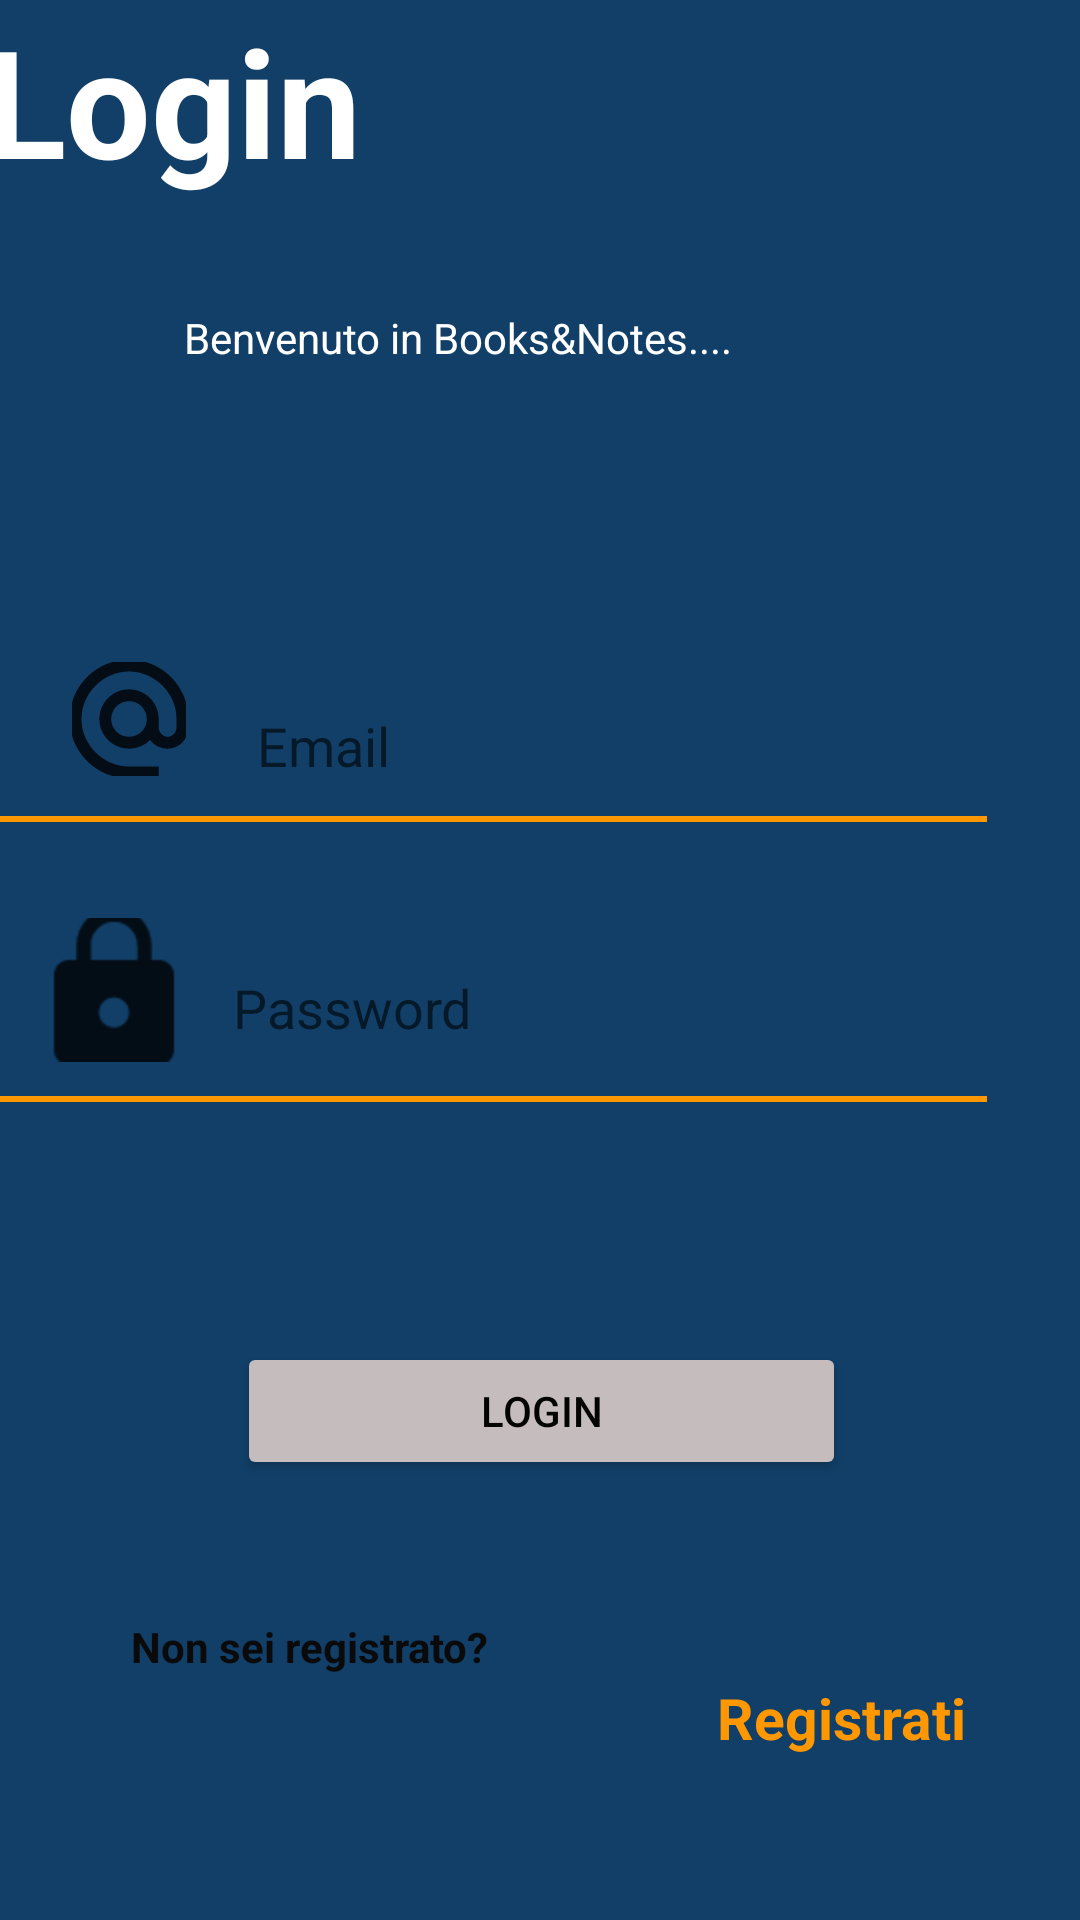

Screen size 1080x1920. Icon name, then its box in pixels as {"x1": x1, "y1": y1, "x2": x2, "y2": y2}:
icona lock: {"x1": 54, "y1": 918, "x2": 174, "y2": 1062}
